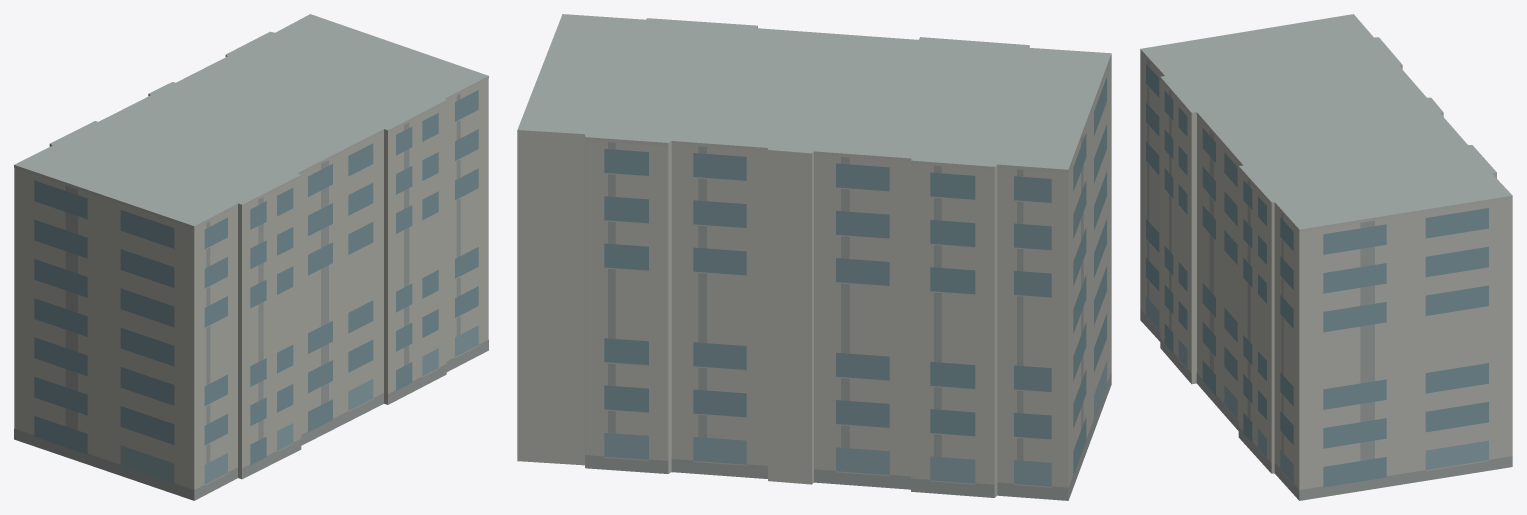
Rendered from survey-upis-32848806.glb.
3 views of the same model, side by side, from view 1: azimuth 30°, elevation 25°; view 2: azimuth 150°, elevation 25°; view 3: azimuth 270°, elevation 25° (orthographic). The views are drawn at different scales.
Parts seen in each view (by area): view 1: survey-upis-32848806.tmp; view 2: survey-upis-32848806.tmp; view 3: survey-upis-32848806.tmp.
Boxes of the visible parts, x1,y1,x2,y2 form: survey-upis-32848806.tmp: (14,14,488,500); survey-upis-32848806.tmp: (517,14,1111,500); survey-upis-32848806.tmp: (1140,14,1512,500).
Size of the model in its own units: 38.68 by 22.7 by 28.24.
